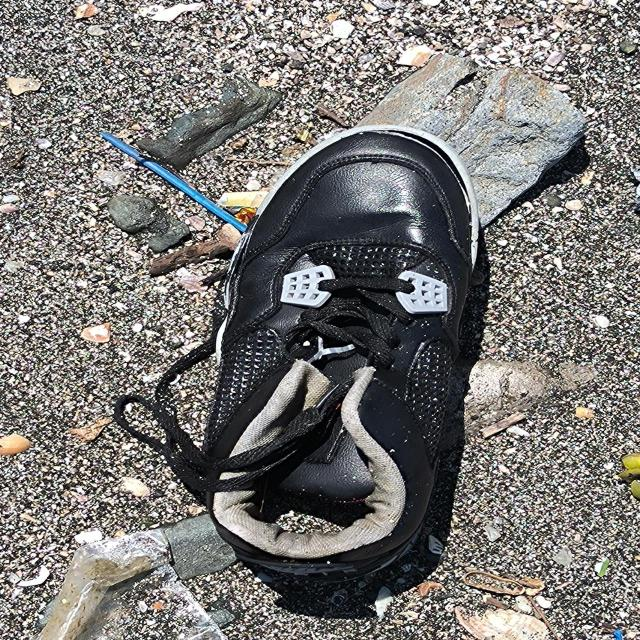plastic_waste: (100, 131, 250, 234)
rubber_waste: (199, 124, 484, 586)
